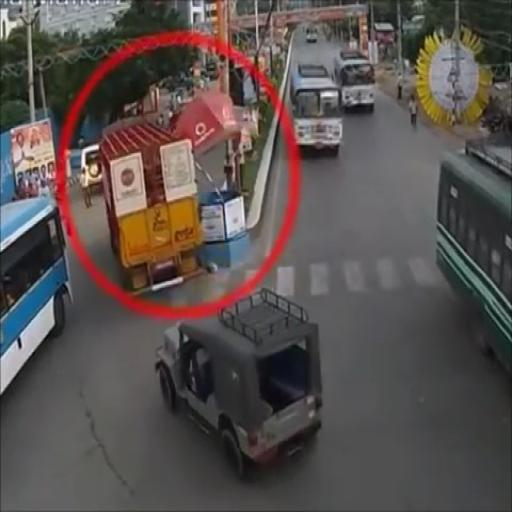小汽车: (162, 278, 325, 474), (436, 141, 512, 374), (102, 122, 196, 294), (292, 64, 342, 160), (333, 51, 375, 117), (79, 145, 103, 193)
